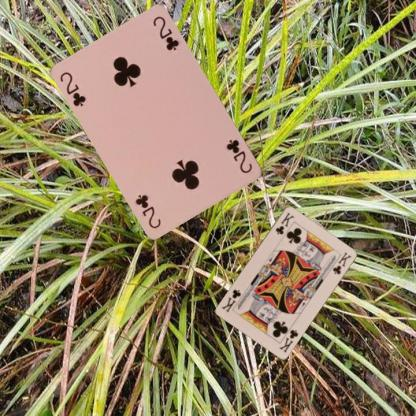2c: (58, 69, 88, 108), (224, 137, 254, 175)
Kc: (277, 326, 299, 354), (273, 210, 296, 236)
